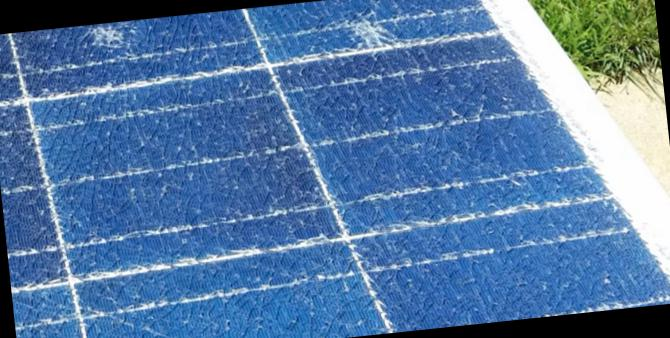Crack: (332, 0, 410, 62), (73, 19, 151, 61)
